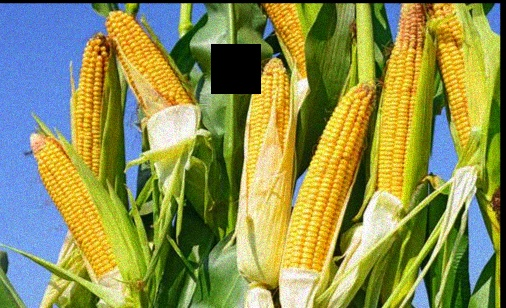corn: (24, 136, 137, 289), (107, 10, 202, 172), (284, 85, 363, 277), (241, 63, 290, 283), (378, 6, 427, 208), (437, 24, 494, 168), (75, 38, 116, 184)
